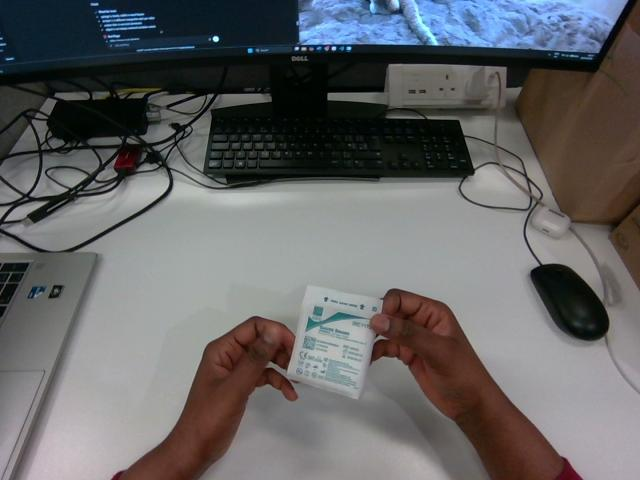gauze: (287, 286, 381, 398)
